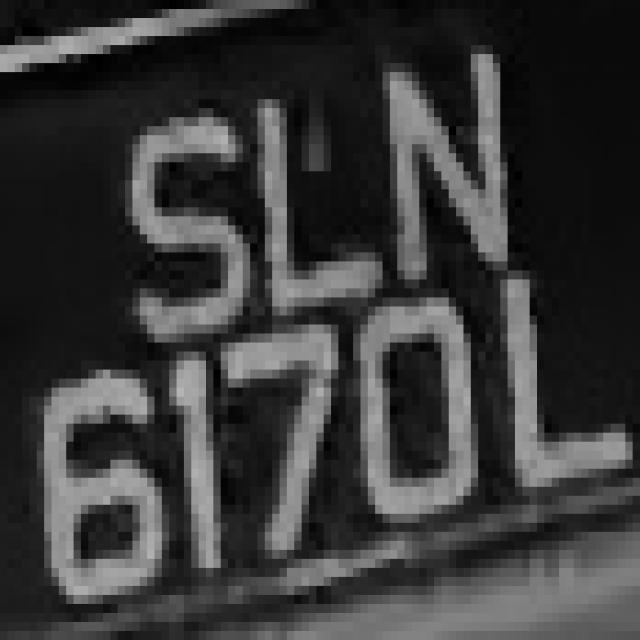0: (338, 252, 478, 577)
1: (162, 324, 243, 604)
6: (37, 343, 169, 631)
7: (228, 261, 338, 586)
L: (478, 225, 633, 505), (221, 72, 368, 325)
N: (382, 27, 522, 270)
S: (110, 99, 250, 352)
